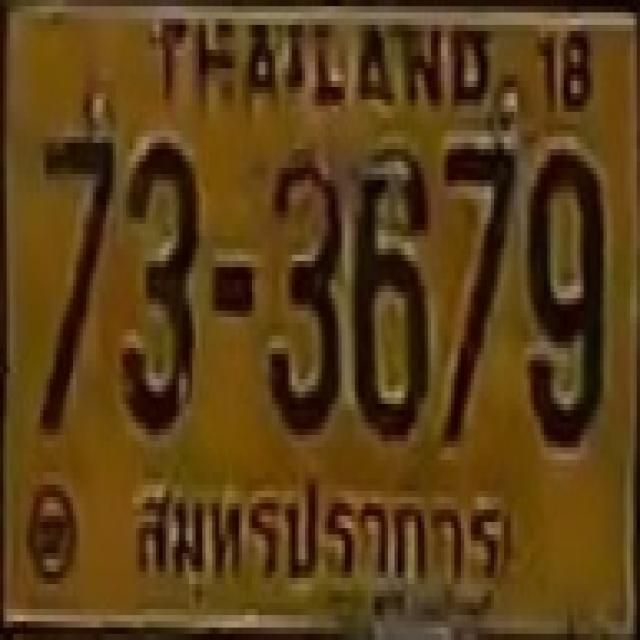3: (119, 136, 196, 428), (266, 149, 338, 429)
6: (352, 149, 424, 435)
7: (36, 130, 113, 429), (440, 137, 512, 435)
9: (527, 143, 600, 441)
SPK: (122, 458, 506, 602)
